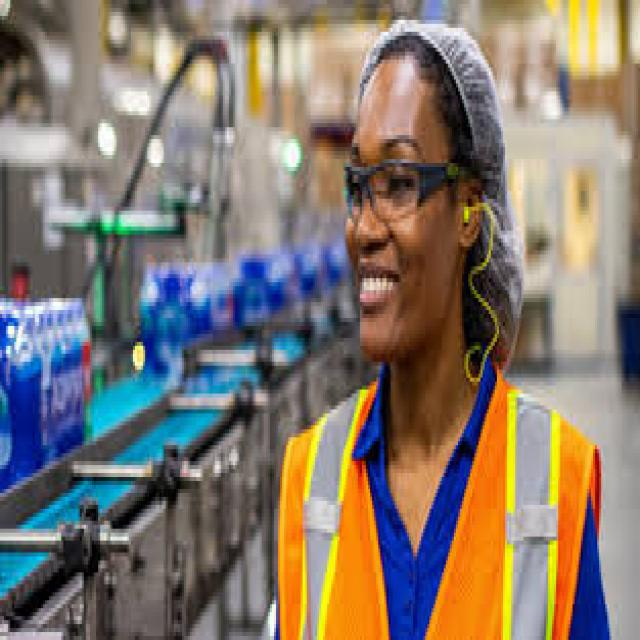Reflective-Jacket: (276, 369, 603, 640)
